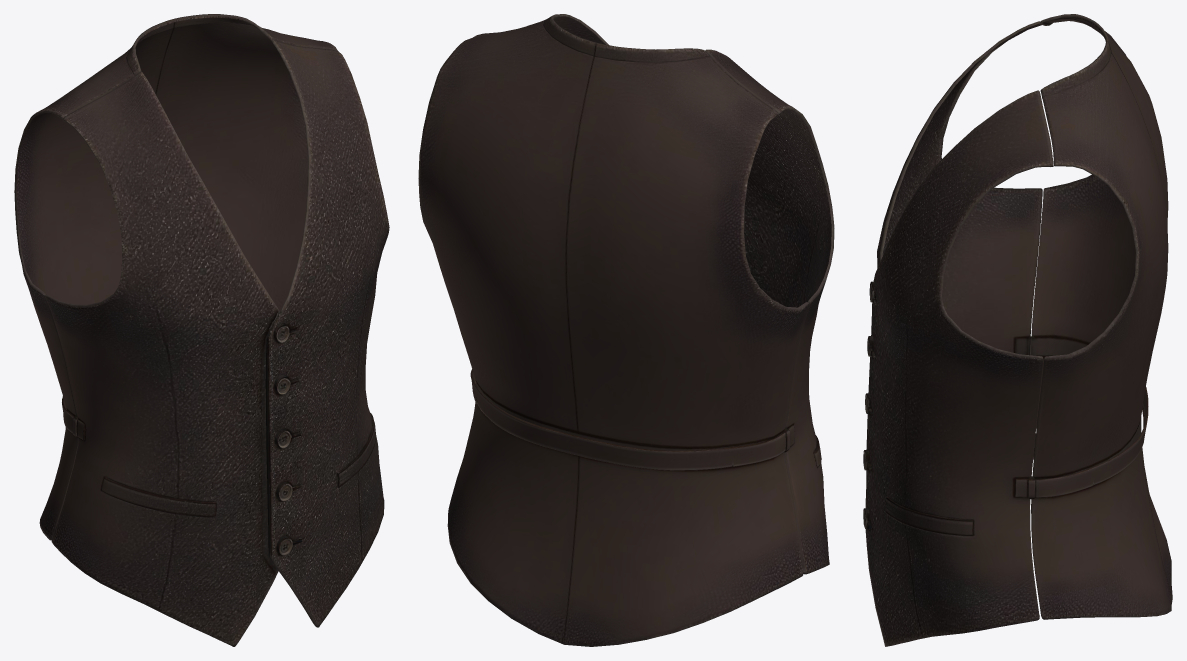
File: selected.fbx
The picture shows the model from 3 angles, left to right: view 1: azimuth 30°, elevation 25°; view 2: azimuth 150°, elevation 25°; view 3: azimuth 270°, elevation 25°; orthographic projection. The views are drawn at different scales.
Parts seen in each view (by area): view 1: tripo_node_3a09cb83; view 2: tripo_node_3a09cb83; view 3: tripo_node_3a09cb83.
Part boxes in pixels (x1,y1,x2,y2): tripo_node_3a09cb83: (14, 14, 389, 646); tripo_node_3a09cb83: (418, 14, 834, 646); tripo_node_3a09cb83: (863, 14, 1172, 646).
Bounding box in the file's own units: 63.33 × 99.95 × 48.
Materials: 1 (1 with a texture image).
